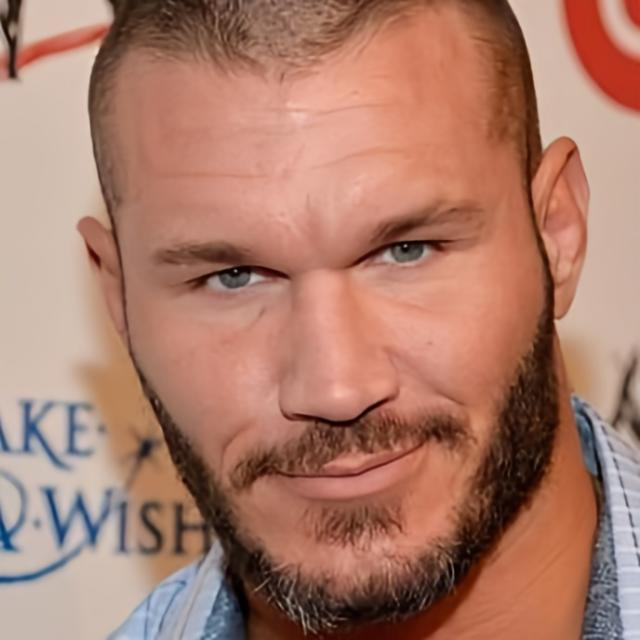content: (88, 0, 559, 621)
